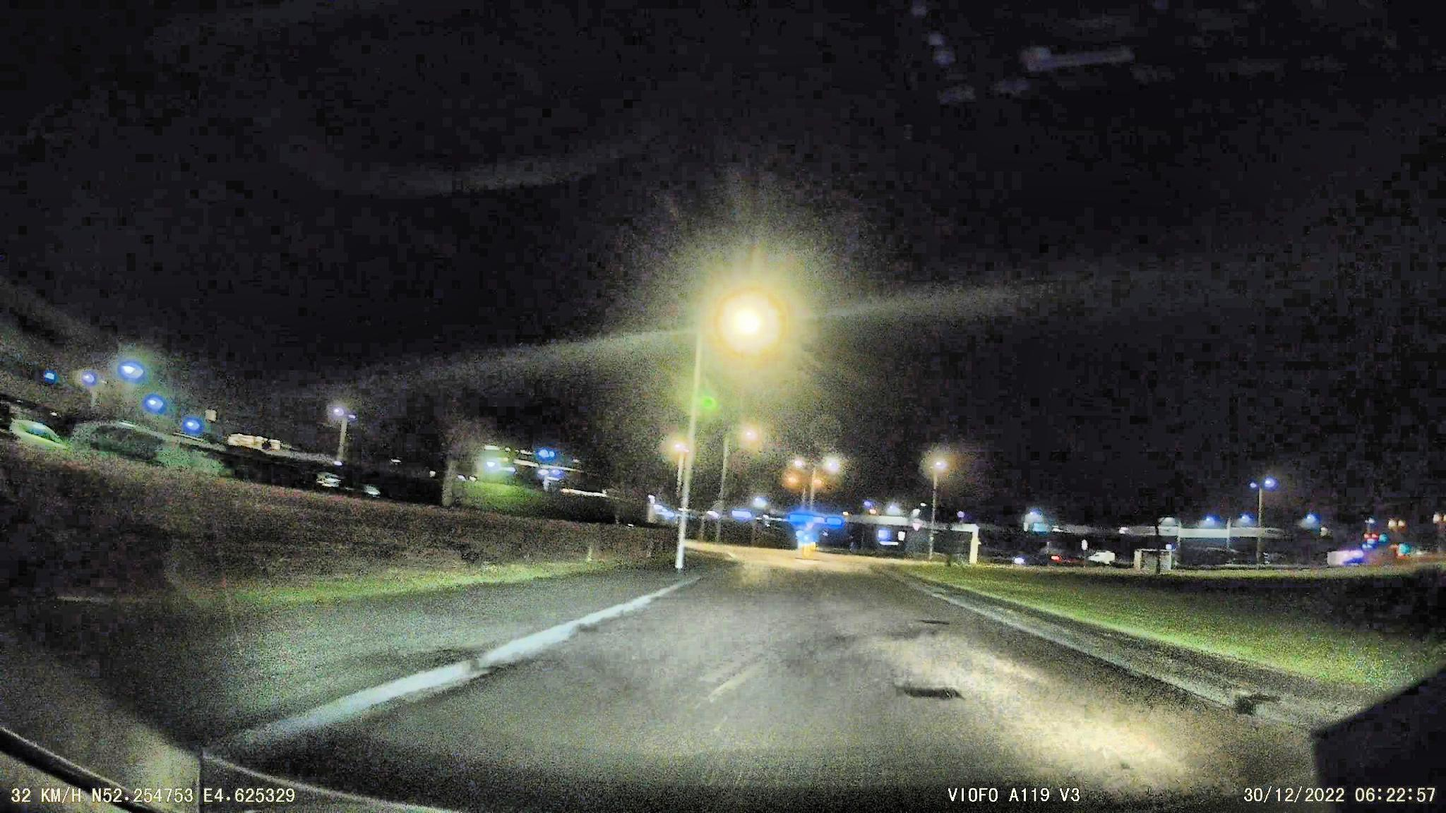Roads: (312, 561, 1295, 813)
